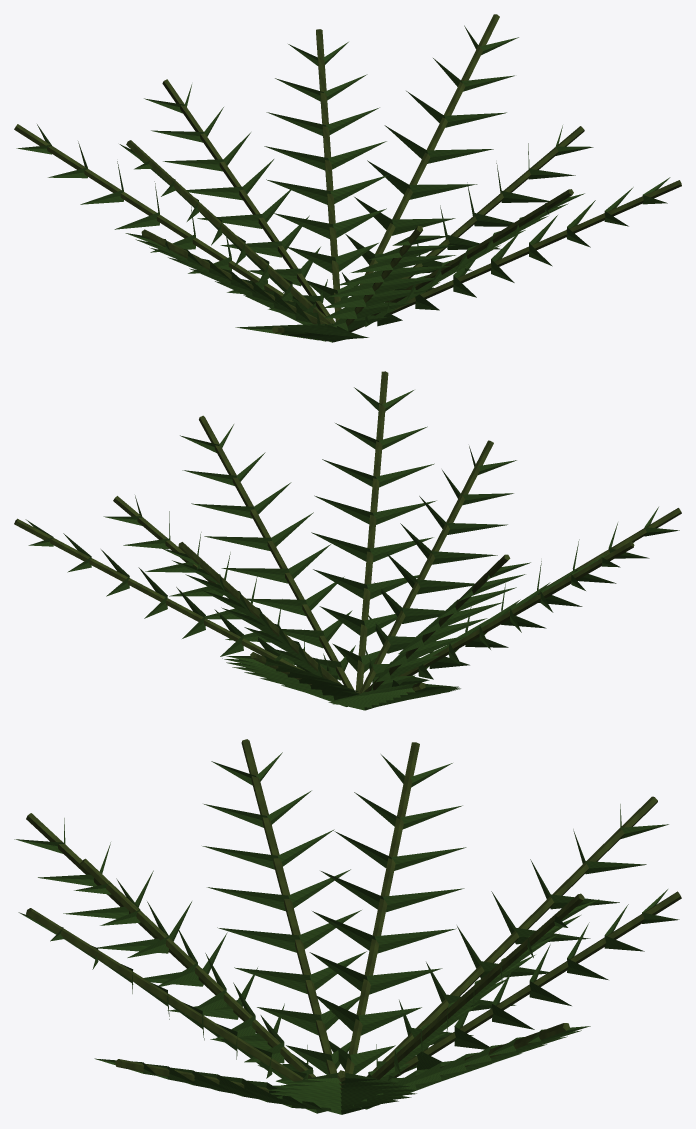
File: level_camp_fern_refined.glb
The picture shows the model from 3 angles, top to bottom: view 1: azimuth 30°, elevation 25°; view 2: azimuth 150°, elevation 25°; view 3: azimuth 270°, elevation 25°; orthographic projection. The views are drawn at different scales.
Parts seen in each view (by area): view 1: level_camp_fern_refined; view 2: level_camp_fern_refined; view 3: level_camp_fern_refined.
Boxes of the visible parts, left/top/right/bottom form: level_camp_fern_refined: left=14, top=14, right=681, bottom=342; level_camp_fern_refined: left=14, top=371, right=681, bottom=710; level_camp_fern_refined: left=14, top=739, right=681, bottom=1114.
Bounding box in the file's own units: 1.27 × 0.5295 × 1.22.
Materials: 2 (2 with a texture image).
